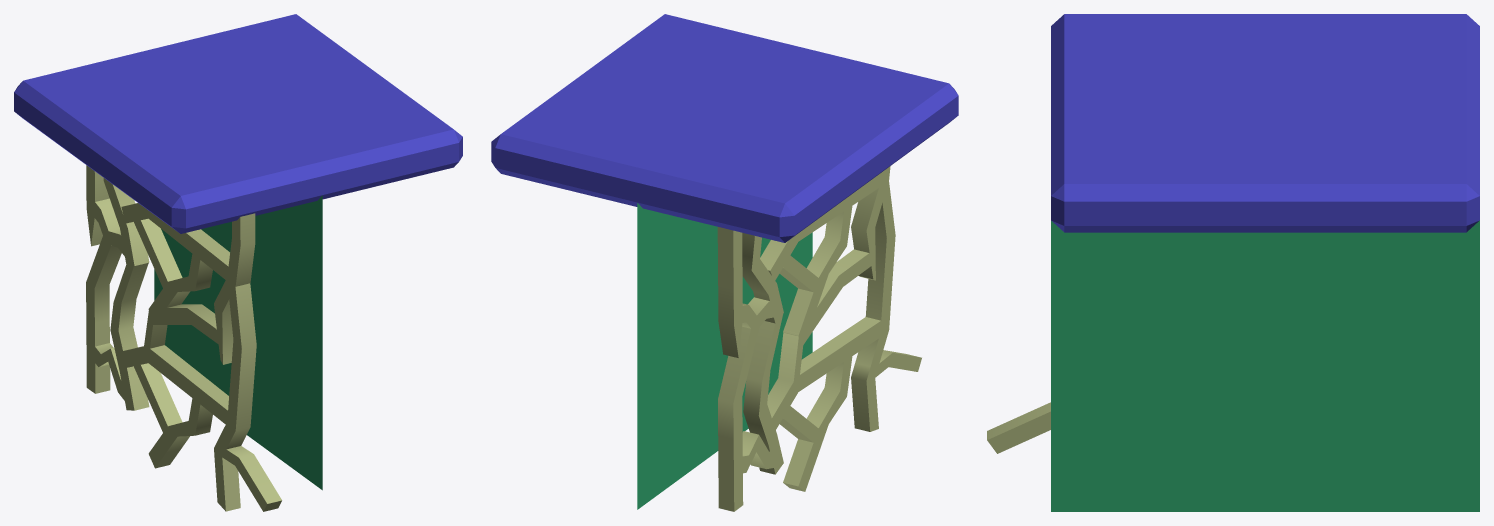
3 views of the same model, side by side, from view 1: azimuth 30°, elevation 25°; view 2: azimuth 150°, elevation 25°; view 3: azimuth 270°, elevation 25° (orthographic). The views are drawn at different scales.
Visible parts, largest first — view 1: pPlane2; view 2: pPlane2; view 3: pPlane2.
Part boxes in pixels (left/top/right/bottom): pPlane2: left=14, top=14, right=462, bottom=511; pPlane2: left=491, top=14, right=958, bottom=511; pPlane2: left=987, top=14, right=1479, bottom=511.
Size of the model in its own units: 4 by 4.54 by 4.6.
